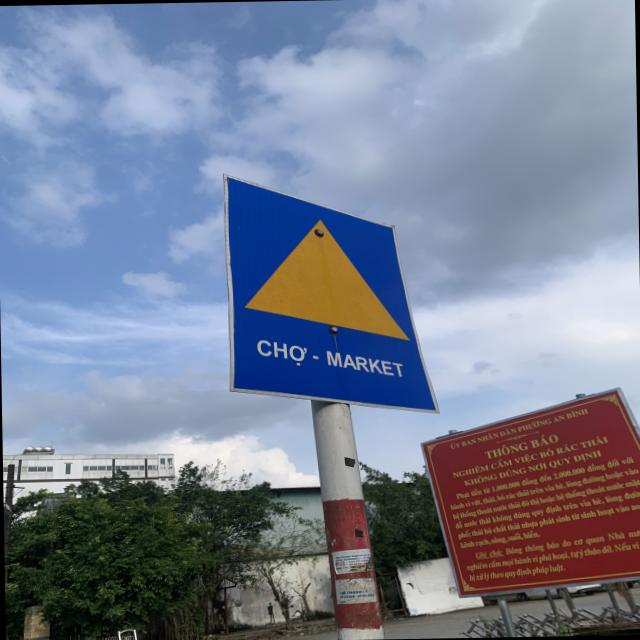Cho_Quay_Xe: (223, 174, 438, 416)
